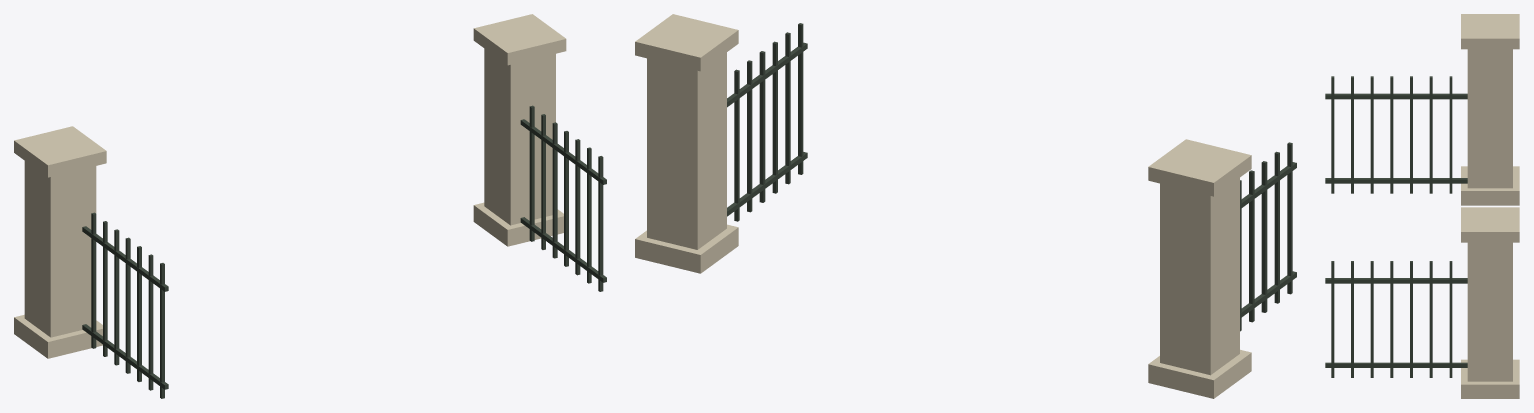
Rendered from gateway.glb.
The picture shows the model from 3 angles, left to right: view 1: azimuth 30°, elevation 25°; view 2: azimuth 150°, elevation 25°; view 3: azimuth 270°, elevation 25°; orthographic projection. The views are drawn at different scales.
Parts seen in each view (by area): view 1: Piliers de l entree, Portail ouvert en fer forge; view 2: Piliers de l entree, Portail ouvert en fer forge; view 3: Piliers de l entree, Portail ouvert en fer forge.
Part boxes in pixels (bbox=[...]): Piliers de l entree: bbox=[14, 14, 566, 358]; Portail ouvert en fer forge: bbox=[82, 105, 606, 398]; Piliers de l entree: bbox=[635, 14, 1251, 398]; Portail ouvert en fer forge: bbox=[727, 23, 1296, 331]; Piliers de l entree: bbox=[1461, 14, 1519, 398]; Portail ouvert en fer forge: bbox=[1325, 76, 1467, 377].
Size of the model in its own units: 9.7 by 3.46 by 3.65.
